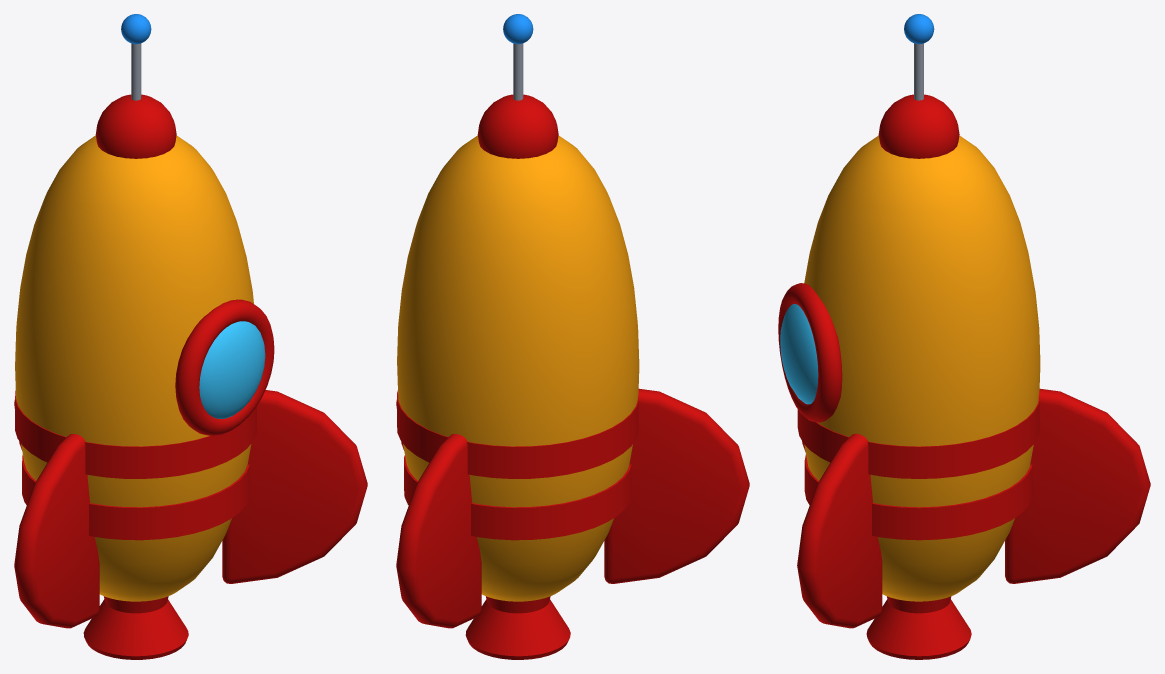
File: Rocket_05_ToyRocket.obj
3 renders of one model, left to right at view 1: azimuth 30°, elevation 25°; view 2: azimuth 150°, elevation 25°; view 3: azimuth 270°, elevation 25°, orthographic.
Parts seen in each view (by area): view 1: R05_Body, R05_Fin_3, R05_Fin_2, R05_Stripe_2, R05_Stripe, R05_WindowFrame, R05_Nozzle, R05_Window, R05_NoseBall, R05_AntennaBall, R05_Antenna; view 2: R05_Body, R05_Fin_2, R05_Fin, R05_Stripe_2, R05_Stripe, R05_Nozzle, R05_NoseBall, R05_AntennaBall, R05_Antenna; view 3: R05_Body, R05_Fin, R05_Fin_3, R05_Stripe_2, R05_Stripe, R05_Nozzle, R05_NoseBall, R05_WindowFrame, R05_Window, R05_AntennaBall, R05_Antenna.
Boxes of the visible parts, x1,y1,x2,y2 form: R05_Body: (15, 135, 253, 601); R05_Fin_3: (222, 390, 367, 583); R05_Fin_2: (14, 434, 99, 628); R05_Stripe_2: (15, 391, 256, 478); R05_Stripe: (22, 454, 249, 540); R05_WindowFrame: (175, 299, 274, 435); R05_Nozzle: (83, 596, 188, 659); R05_Window: (199, 321, 265, 418); R05_NoseBall: (95, 94, 176, 158); R05_AntennaBall: (121, 14, 151, 44); R05_Antenna: (131, 43, 141, 100); R05_Body: (397, 135, 639, 601); R05_Fin_2: (604, 388, 749, 583); R05_Fin: (396, 434, 481, 628); R05_Stripe_2: (397, 390, 638, 478); R05_Stripe: (404, 455, 631, 540); R05_Nozzle: (465, 596, 570, 659); R05_NoseBall: (477, 94, 558, 158); R05_AntennaBall: (503, 14, 533, 44); R05_Antenna: (513, 43, 523, 100); R05_Body: (804, 135, 1040, 601); R05_Fin: (1005, 388, 1150, 583); R05_Fin_3: (797, 433, 882, 628); R05_Stripe_2: (797, 400, 1039, 478); R05_Stripe: (804, 454, 1032, 540); R05_Nozzle: (866, 596, 971, 659); R05_NoseBall: (878, 94, 959, 158); R05_WindowFrame: (778, 283, 842, 422); R05_Window: (780, 304, 818, 404); R05_AntennaBall: (904, 14, 934, 44); R05_Antenna: (914, 43, 923, 100).
Bounding box in the file's own units: 4.01 × 6.8 × 3.68.
